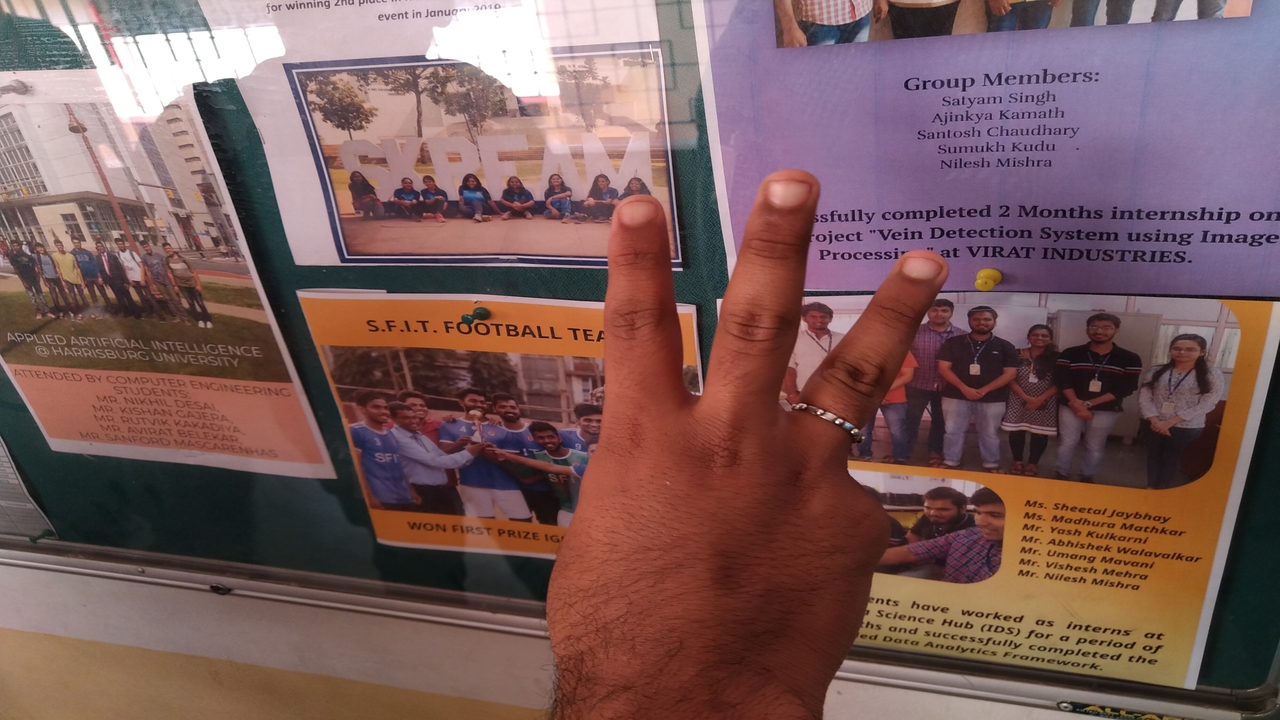fingertip: (756, 164, 822, 228), (604, 186, 666, 246), (892, 246, 952, 298)
